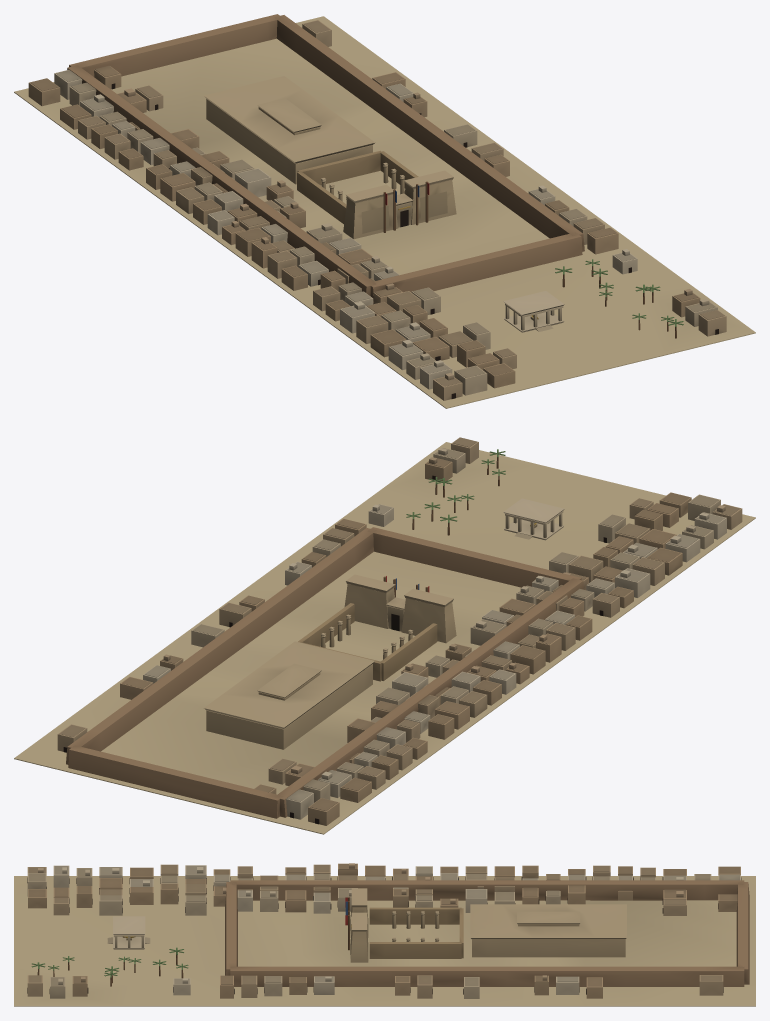
The model's file is luxor-1470.glb.
3 renders of one model, top to bottom at view 1: azimuth 30°, elevation 25°; view 2: azimuth 150°, elevation 25°; view 3: azimuth 270°, elevation 25°, orthographic. The views are drawn at different scales.
Visible parts, largest first — view 1: p0_walls, p3_houses, p1_temple, p2_chapel; view 2: p0_walls, p3_houses, p1_temple, p2_chapel; view 3: p0_walls, p3_houses, p1_temple, p2_chapel.
Part boxes in pixels (x1,y1,x2,y2): p0_walls: [14, 14, 755, 408]; p3_houses: [28, 20, 726, 400]; p1_temple: [204, 76, 456, 239]; p2_chapel: [321, 162, 564, 332]; p0_walls: [14, 442, 755, 834]; p3_houses: [57, 437, 742, 825]; p1_temple: [204, 574, 456, 749]; p2_chapel: [321, 498, 564, 659]; p0_walls: [14, 876, 755, 1006]; p3_houses: [27, 863, 741, 998]; p1_temple: [345, 888, 626, 962]; p2_chapel: [107, 911, 439, 949].
Size of the model in its own units: 120 by 15.34 by 290.
